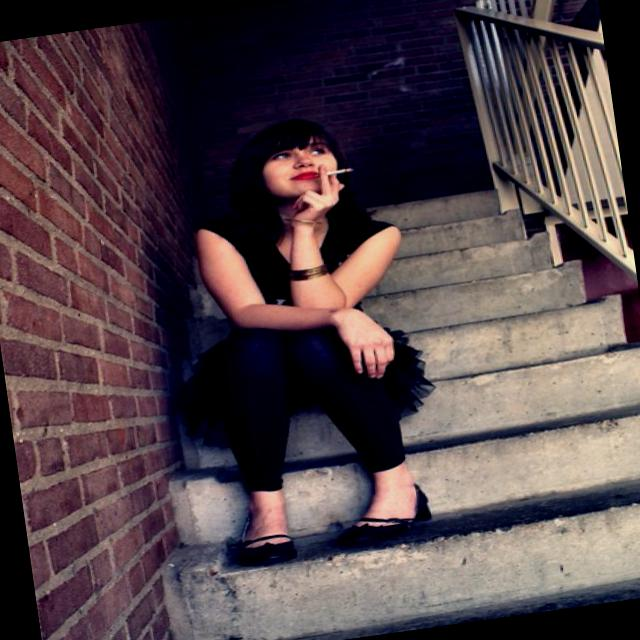cigarette: (321, 162, 358, 180)
